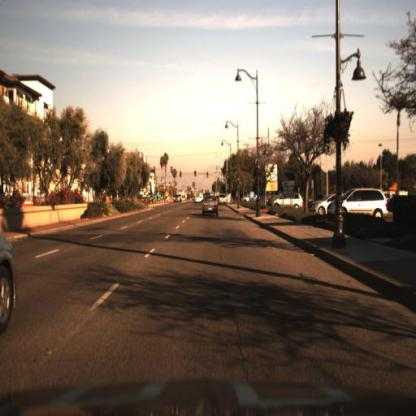car: (326, 178, 394, 224), (326, 185, 392, 221), (269, 189, 308, 215), (273, 191, 308, 213), (309, 192, 338, 215), (313, 195, 333, 225), (199, 194, 221, 219), (217, 193, 229, 211)
